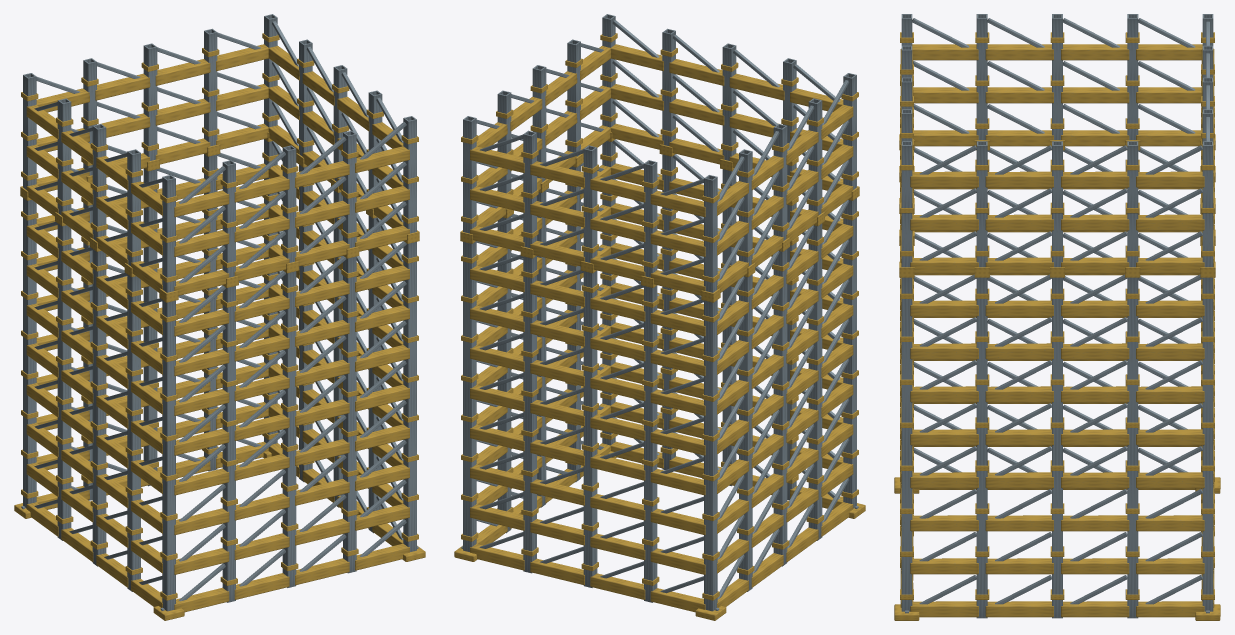
The picture shows the model from 3 angles, left to right: view 1: azimuth 30°, elevation 25°; view 2: azimuth 150°, elevation 25°; view 3: azimuth 270°, elevation 25°; orthographic projection. The views are drawn at different scales.
Parts seen in each view (by area): view 1: Tier 0 side 0 post 0, Tier 0 side 0 post 2, Tier 0 side 0 post 3, Tier 0 side 1 post 0, Tier 0 side 0 post 1, Tier 0 side 3 post 1, Tier 0 side 3 post 2, Tier 0 side 3 post 0, Tier 0 side 3 post 3, Tier 0 side 2 post 2, Tier 0 side 1 post 3, Tier 0 side 2 post 1 (+97 smaller); view 2: Tier 0 side 3 post 0, Tier 0 side 2 post 2, Tier 0 side 2 post 1, Tier 0 side 2 post 0, Tier 0 side 2 post 3, Tier 0 side 3 post 3, Tier 0 side 3 post 2, Tier 0 side 3 post 1, Tier 0 side 0 post 0, Tier 0 side 0 post 3, Tier 0 side 1 post 3, Tier 0 side 1 post 2 (+75 smaller); view 3: Tier 0 side 1 post 0, Tier 0 side 2 post 0, Tier 0 side 1 post 1, Tier 0 side 1 post 3, Tier 0 side 1 post 2, Tier 1 side 1 post 0, Tier 1 side 2 post 0, Tier 1 side 3 post 3, Tier 1 side 1 post 1, Tier 1 side 1 post 3, Tier 1 side 3 post 1, Tier 1 side 1 post 2 (+57 smaller).
Part boxes in pixels (x1=…): Tier 0 side 0 post 0: x1=162, y1=300, x2=175, y2=611; Tier 0 side 0 post 2: x1=282, y1=271, x2=296, y2=587; Tier 0 side 0 post 3: x1=343, y1=256, x2=356, y2=573; Tier 0 side 1 post 0: x1=403, y1=242, x2=416, y2=551; Tier 0 side 0 post 1: x1=222, y1=286, x2=235, y2=602; Tier 0 side 3 post 1: x1=57, y1=223, x2=71, y2=540; Tier 0 side 3 post 2: x1=92, y1=249, x2=106, y2=566; Tier 0 side 3 post 0: x1=23, y1=198, x2=36, y2=508; Tier 0 side 3 post 3: x1=127, y1=274, x2=140, y2=591; Tier 0 side 2 post 2: x1=143, y1=169, x2=157, y2=486; Tier 0 side 1 post 3: x1=299, y1=165, x2=312, y2=482; Tier 0 side 2 post 1: x1=204, y1=154, x2=217, y2=471; Tier 0 side 3 post 0: x1=704, y1=300, x2=717, y2=611; Tier 0 side 2 post 2: x1=583, y1=270, x2=597, y2=587; Tier 0 side 2 post 1: x1=523, y1=256, x2=536, y2=573; Tier 0 side 2 post 0: x1=463, y1=241, x2=476, y2=551; Tier 0 side 2 post 3: x1=644, y1=285, x2=657, y2=602; Tier 0 side 3 post 3: x1=808, y1=223, x2=822, y2=540; Tier 0 side 3 post 2: x1=773, y1=249, x2=787, y2=566; Tier 0 side 3 post 1: x1=739, y1=274, x2=752, y2=591; Tier 0 side 0 post 0: x1=843, y1=198, x2=856, y2=508; Tier 0 side 0 post 3: x1=662, y1=154, x2=675, y2=469; Tier 0 side 1 post 3: x1=497, y1=216, x2=511, y2=533; Tier 0 side 1 post 2: x1=537, y1=190, x2=546, y2=507; Tier 0 side 1 post 0: x1=901, y1=277, x2=912, y2=611; Tier 0 side 2 post 0: x1=1202, y1=277, x2=1213, y2=611; Tier 0 side 1 post 1: x1=976, y1=277, x2=987, y2=618; Tier 0 side 1 post 3: x1=1127, y1=277, x2=1138, y2=618; Tier 0 side 1 post 2: x1=1052, y1=277, x2=1062, y2=618; Tier 1 side 1 post 0: x1=901, y1=141, x2=912, y2=267; Tier 1 side 2 post 0: x1=1202, y1=141, x2=1213, y2=267; Tier 1 side 3 post 3: x1=976, y1=14, x2=987, y2=139; Tier 1 side 1 post 1: x1=976, y1=141, x2=987, y2=267; Tier 1 side 1 post 3: x1=1127, y1=141, x2=1138, y2=267; Tier 1 side 3 post 1: x1=1127, y1=14, x2=1138, y2=139; Tier 1 side 1 post 2: x1=1052, y1=141, x2=1062, y2=267.
Size of the model in its own units: 1.95 by 3.12 by 1.95.
Materials: 2 (2 with a texture image).
